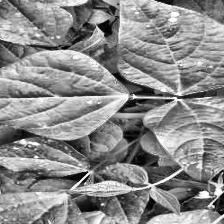Bean Rust: (0, 52, 132, 140), (102, 0, 224, 95), (139, 99, 224, 179), (0, 136, 90, 174), (0, 0, 71, 48), (0, 191, 87, 223)
